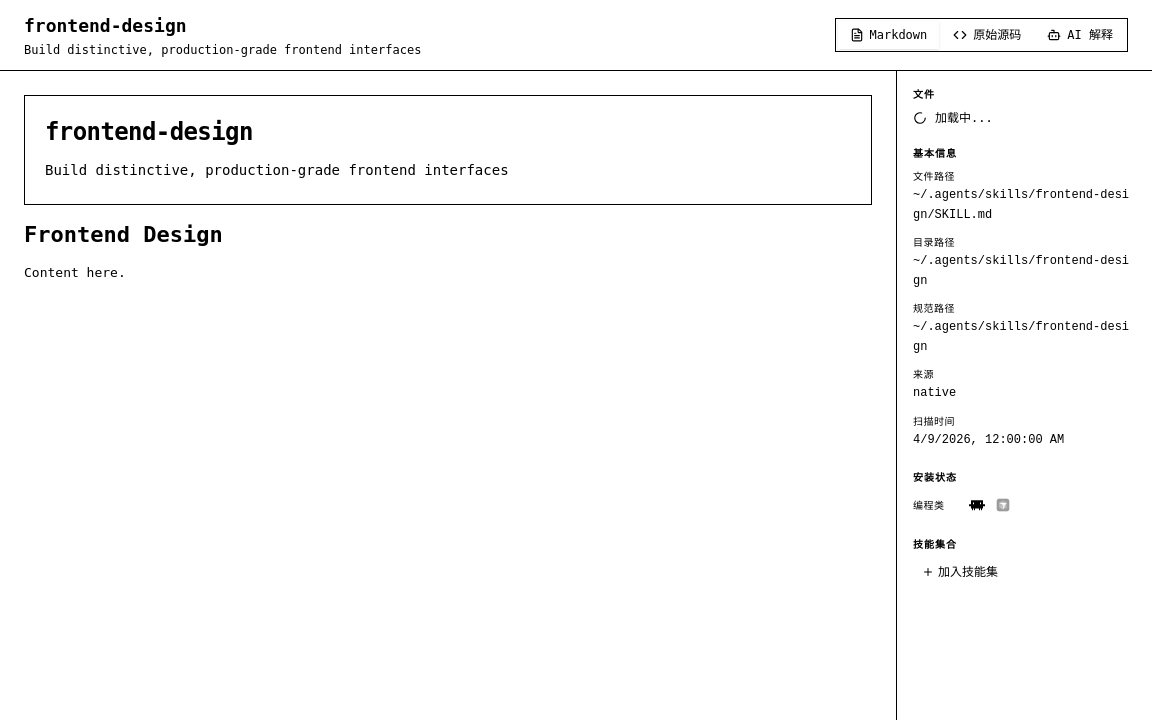
Scenario: SkillDetailView › shows explanation loading state while a request is in flight
This screenshot has width=1152, height=720.
Click the tab "AI 解释": point(1080, 35) [1035,21,1125,49]
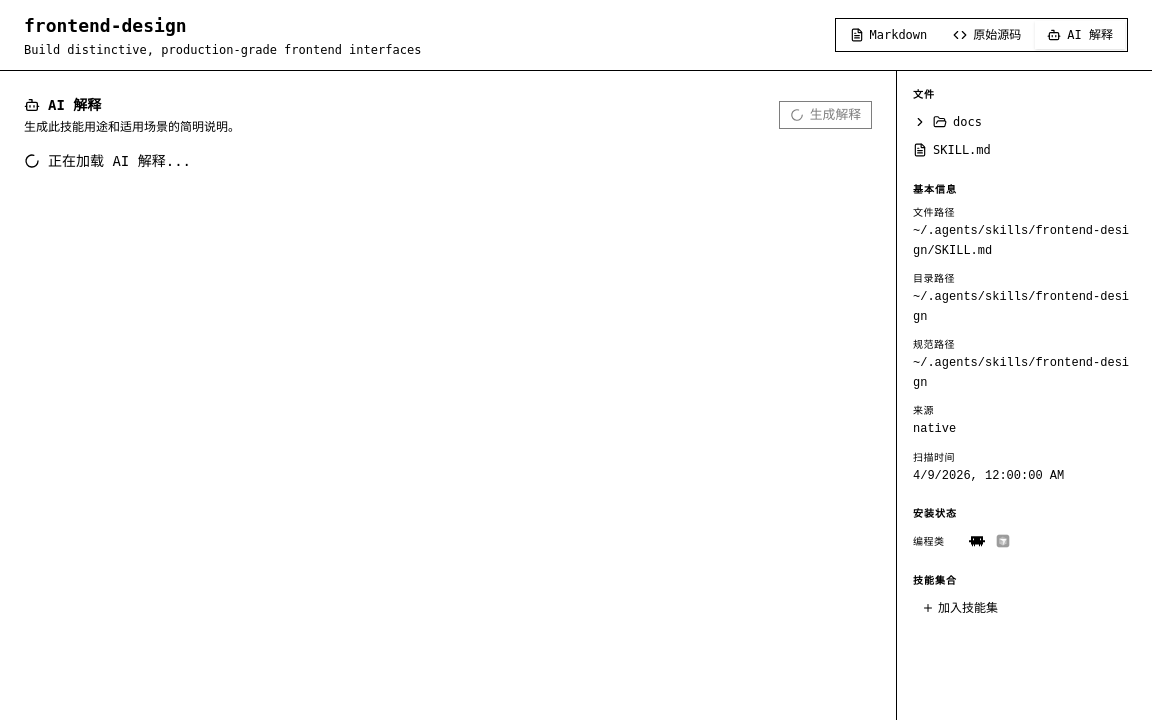
Result: the text "正在加载 AI 解释..." is shown at [24,153,191,169]
Result: the button "生成解释" is disabled at [779,101,872,129]
